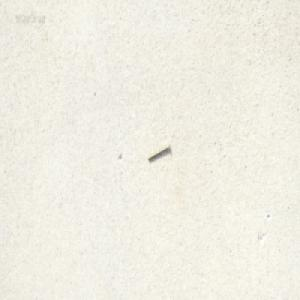Bolt: (146, 142, 169, 162)
